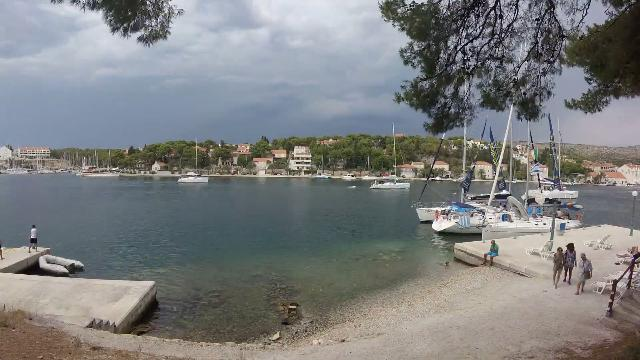Sailboat: (367, 178, 411, 192), (174, 172, 213, 186)
